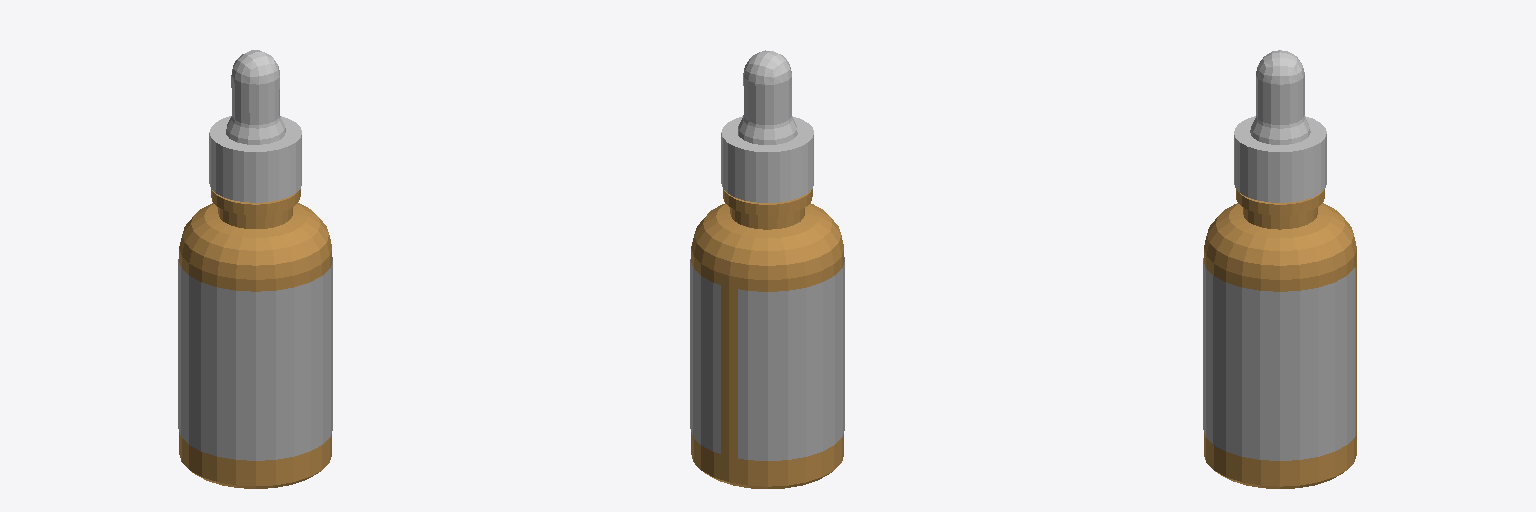
3 views of the same model, side by side, from view 1: azimuth 30°, elevation 25°; view 2: azimuth 150°, elevation 25°; view 3: azimuth 270°, elevation 25° (orthographic).
Parts seen in each view (by area): view 1: label, bottle, cap_plastic, cap_rubber; view 2: label, bottle, cap_plastic, cap_rubber; view 3: label, bottle, cap_plastic, cap_rubber.
Part boxes in pixels (x1,y1,x2,y2): label: (178, 257, 332, 460); bottle: (179, 189, 331, 488); cap_plastic: (209, 116, 301, 202); cap_rubber: (226, 50, 285, 144); label: (690, 257, 844, 460); bottle: (691, 189, 843, 488); cap_plastic: (721, 116, 813, 202); cap_rubber: (738, 50, 797, 144); label: (1203, 258, 1355, 460); bottle: (1204, 189, 1356, 488); cap_plastic: (1234, 116, 1326, 202); cap_rubber: (1250, 50, 1310, 144).
Size of the model in its own units: 0.0414 by 0.1201 by 0.0412.
Materials: 6 (2 with a texture image).